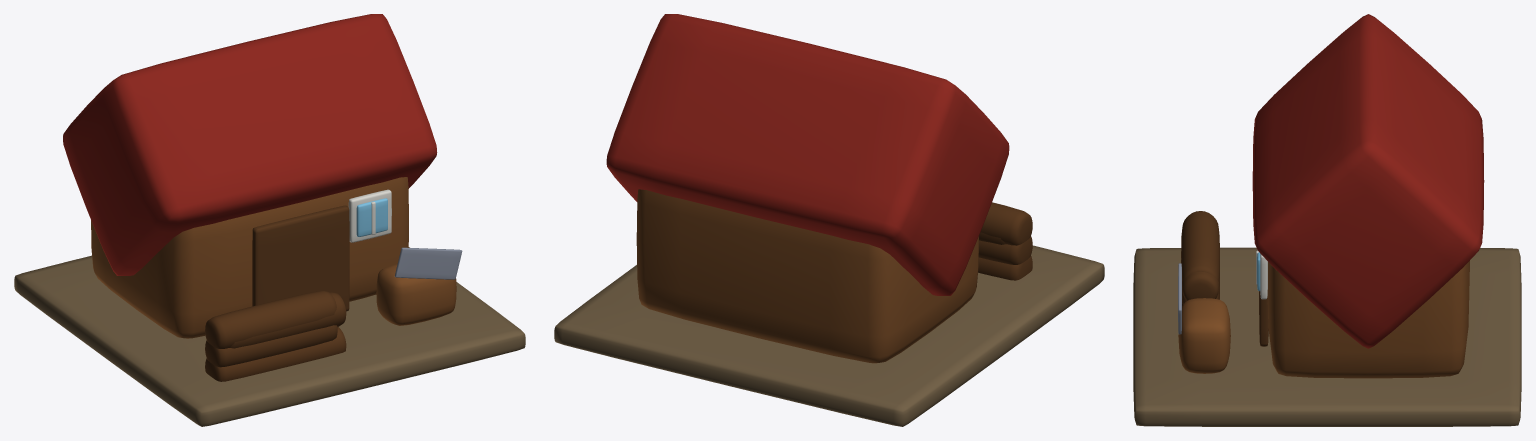
The model's file is Zimmerei.fbx.
3 views of the same model, side by side, from view 1: azimuth 30°, elevation 25°; view 2: azimuth 150°, elevation 25°; view 3: azimuth 270°, elevation 25° (orthographic). The views are drawn at different scales.
Parts seen in each view (by area): view 1: Zimmerei; view 2: Zimmerei; view 3: Zimmerei.
Part boxes in pixels (<box>): Zimmerei: <box>14,14,525,426</box>; Zimmerei: <box>554,14,1104,426</box>; Zimmerei: <box>1133,14,1521,426</box>.
Size of the model in its own units: 1.9 by 1.46 by 1.9.
